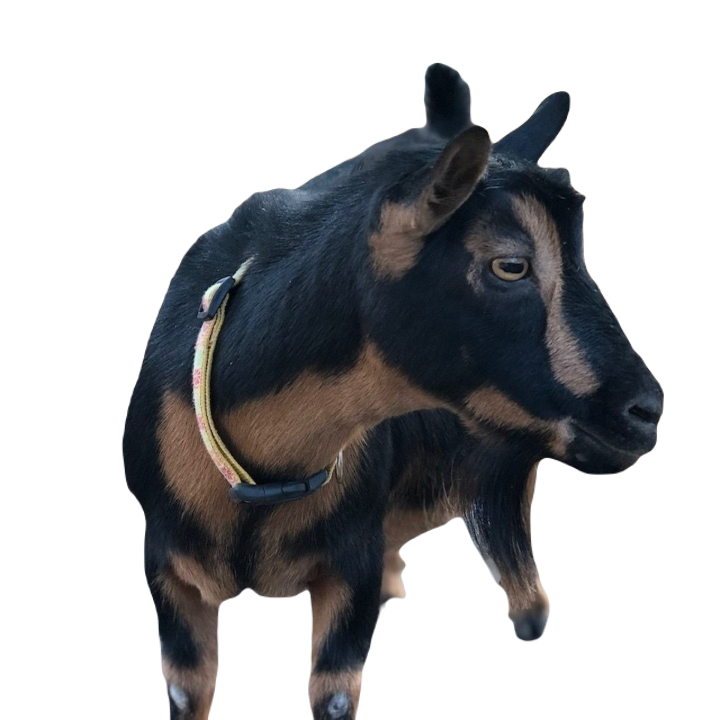Goat: (118, 58, 667, 719)
